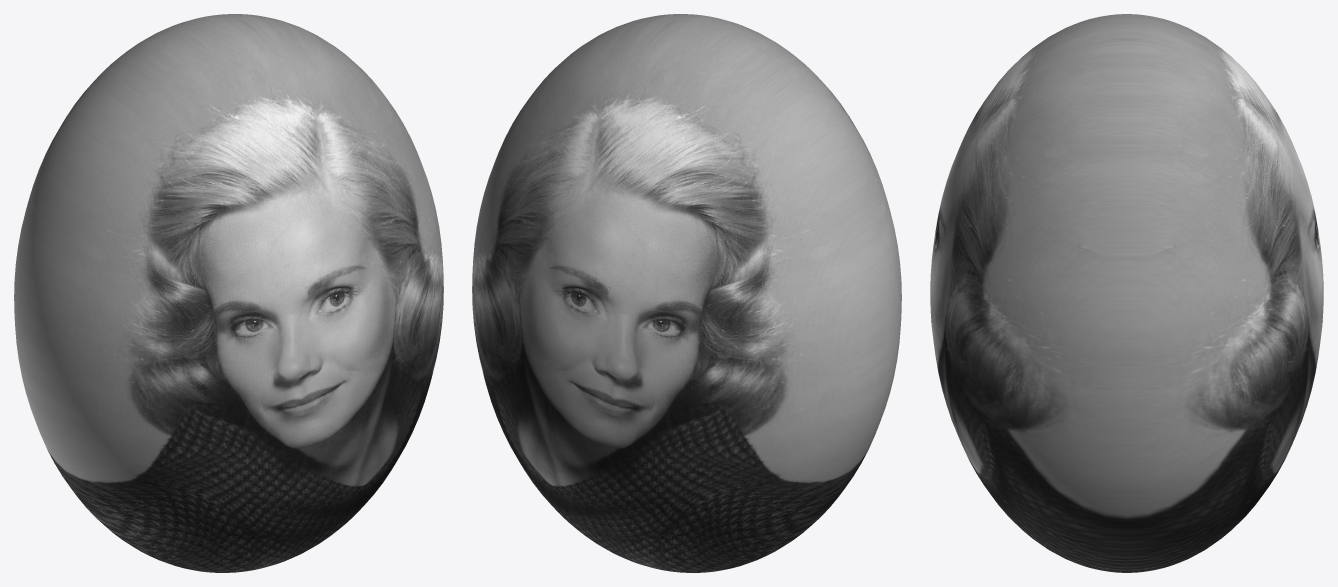
3 views of the same model, side by side, from view 1: azimuth 30°, elevation 25°; view 2: azimuth 150°, elevation 25°; view 3: azimuth 270°, elevation 25° (orthographic).
Parts seen in each view (by area): view 1: head; view 2: head; view 3: head.
Boxes of the visible parts, x1,y1,x2,y2 form: head: (14, 14, 443, 572); head: (472, 14, 901, 572); head: (930, 14, 1323, 572).
Size of the model in its own units: 1.5 by 2 by 1.35.
Materials: 1 (1 with a texture image).
